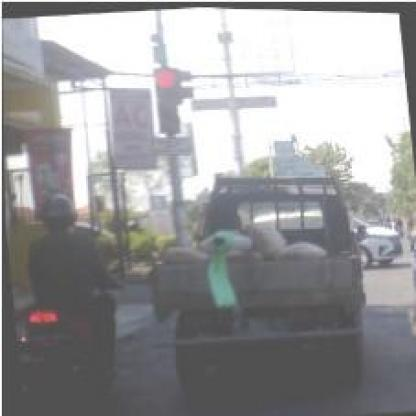red: (150, 66, 180, 132)
